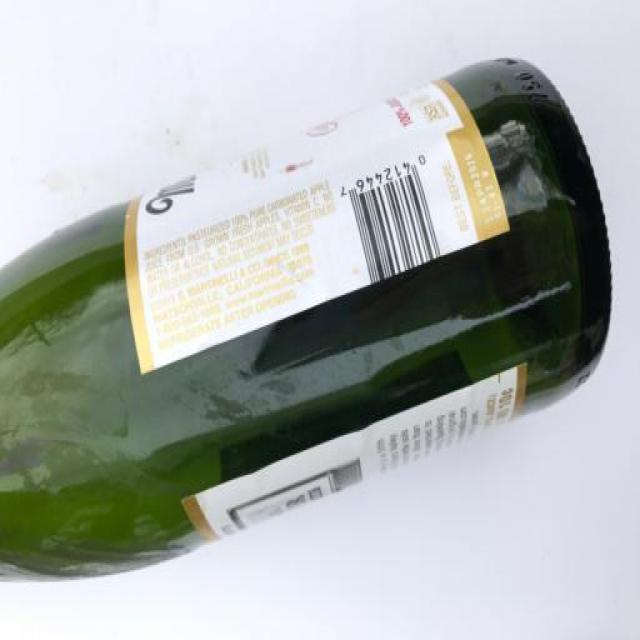glass: (1, 44, 640, 593)
